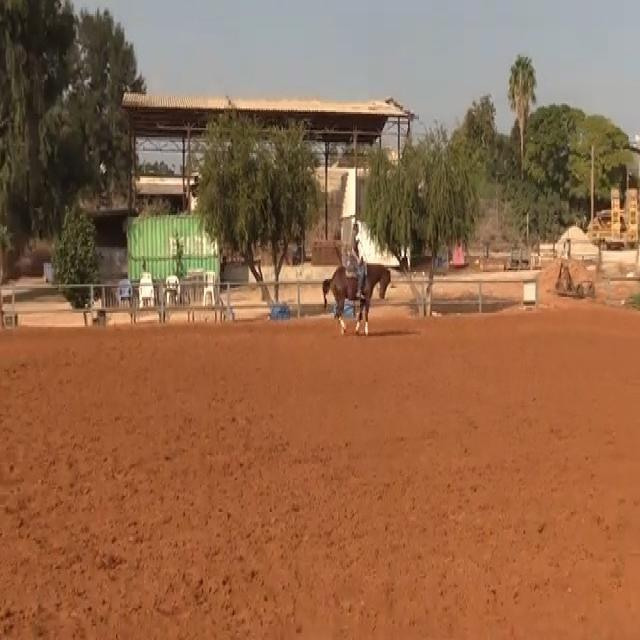horse: (320, 258, 392, 336)
